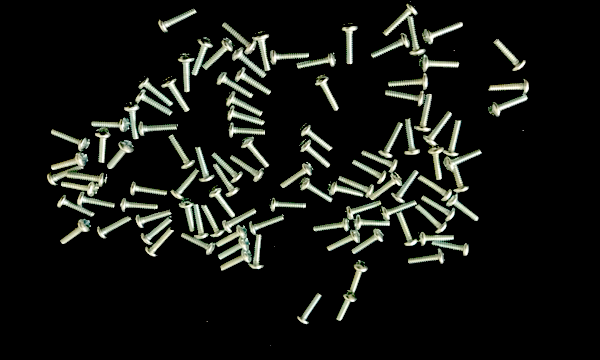shortscrew: (381, 0, 419, 37), (489, 37, 528, 73), (153, 5, 198, 34), (221, 21, 258, 56), (231, 46, 267, 80), (137, 75, 174, 108), (422, 112, 453, 148), (370, 33, 411, 60), (235, 67, 273, 96), (216, 71, 254, 100), (49, 127, 91, 153), (202, 38, 235, 71), (414, 203, 448, 235), (390, 168, 420, 204), (487, 94, 530, 119), (421, 21, 464, 46), (161, 76, 190, 113), (241, 136, 272, 170), (300, 121, 334, 152), (134, 90, 173, 117), (139, 217, 174, 247), (417, 174, 453, 203), (56, 194, 96, 220), (168, 133, 196, 170), (225, 91, 263, 118), (298, 139, 332, 169), (278, 161, 314, 189), (443, 147, 483, 172), (144, 226, 175, 258), (170, 168, 200, 201), (314, 74, 340, 112), (420, 196, 458, 222), (447, 195, 482, 223), (298, 177, 334, 204), (350, 228, 386, 255), (351, 159, 388, 185), (58, 218, 91, 247), (361, 150, 399, 175), (192, 37, 215, 78), (96, 215, 133, 240), (221, 209, 258, 234), (208, 187, 236, 220), (252, 31, 274, 72), (106, 140, 135, 171), (180, 233, 217, 257), (337, 175, 374, 199), (379, 122, 403, 159), (296, 293, 322, 327), (324, 229, 362, 252), (447, 158, 471, 194), (47, 164, 84, 187), (200, 205, 225, 239), (217, 235, 251, 260), (406, 16, 426, 58), (413, 93, 434, 133), (372, 173, 403, 200), (194, 146, 216, 184), (379, 199, 417, 221), (249, 214, 285, 237), (385, 88, 426, 108), (176, 53, 196, 94), (225, 106, 264, 127), (340, 22, 359, 65), (66, 169, 108, 188), (215, 224, 248, 248), (219, 249, 253, 272), (296, 52, 337, 71), (49, 152, 90, 171), (138, 119, 179, 138), (135, 208, 172, 229), (77, 192, 117, 211), (388, 74, 430, 92), (346, 200, 382, 221), (487, 78, 531, 95), (418, 55, 462, 72), (61, 179, 100, 198), (122, 101, 141, 140), (432, 240, 471, 259), (227, 122, 266, 141), (402, 119, 421, 158), (346, 260, 369, 292), (397, 212, 418, 247), (269, 195, 307, 214), (444, 120, 463, 158), (270, 49, 309, 67), (312, 216, 351, 234), (90, 117, 131, 134), (121, 196, 159, 214), (130, 179, 168, 197), (409, 248, 447, 266), (336, 291, 358, 322), (178, 199, 197, 234), (426, 146, 445, 181), (249, 234, 266, 272), (328, 181, 366, 198), (94, 129, 112, 164), (417, 231, 455, 247), (193, 204, 209, 241), (354, 215, 391, 231)
